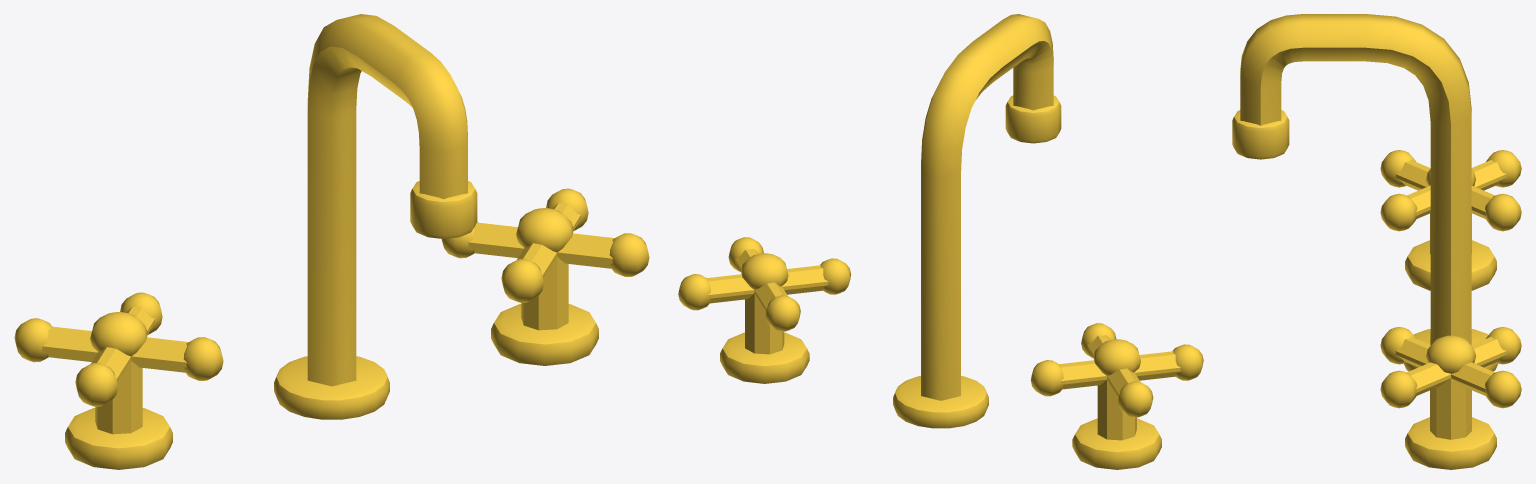
The model's file is torneira_cruzeta_amarela.glb.
The picture shows the model from 3 angles, left to right: view 1: azimuth 30°, elevation 25°; view 2: azimuth 150°, elevation 25°; view 3: azimuth 270°, elevation 25°; orthographic projection. The views are drawn at different scales.
Parts seen in each view (by area): view 1: torneira_cruzeta_amarela; view 2: torneira_cruzeta_amarela; view 3: torneira_cruzeta_amarela.
Boxes of the visible parts, left/top/right/bottom form: torneira_cruzeta_amarela: left=14, top=14, right=649, bottom=469; torneira_cruzeta_amarela: left=678, top=14, right=1203, bottom=469; torneira_cruzeta_amarela: left=1232, top=14, right=1521, bottom=469.
Size of the model in its own units: 0.2942 by 0.2008 by 0.1521.
Materials: 1 (1 with a texture image).
